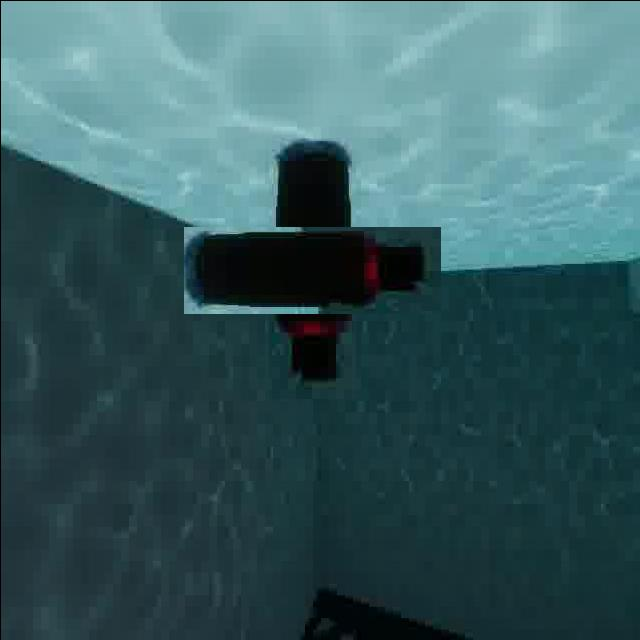Cylinder: (225, 182, 398, 356)
